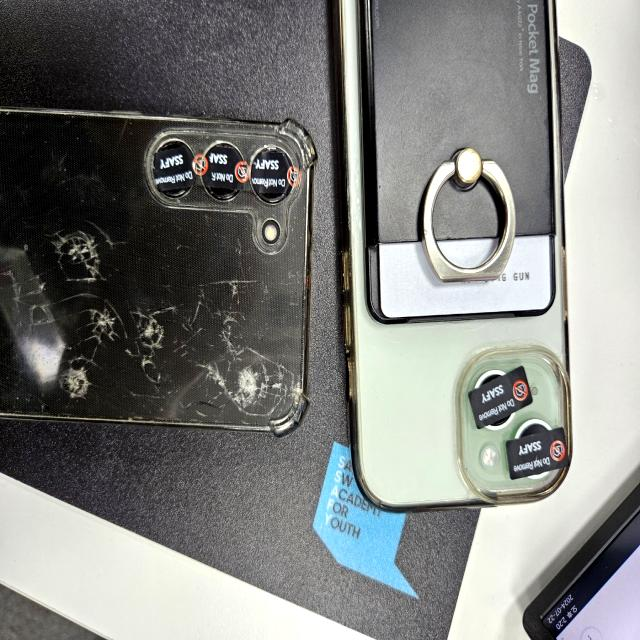phone: (326, 0, 576, 511), (3, 111, 311, 434)
sticker: (468, 368, 535, 426), (507, 428, 573, 480), (151, 141, 198, 201), (200, 145, 244, 203), (254, 145, 294, 202)
